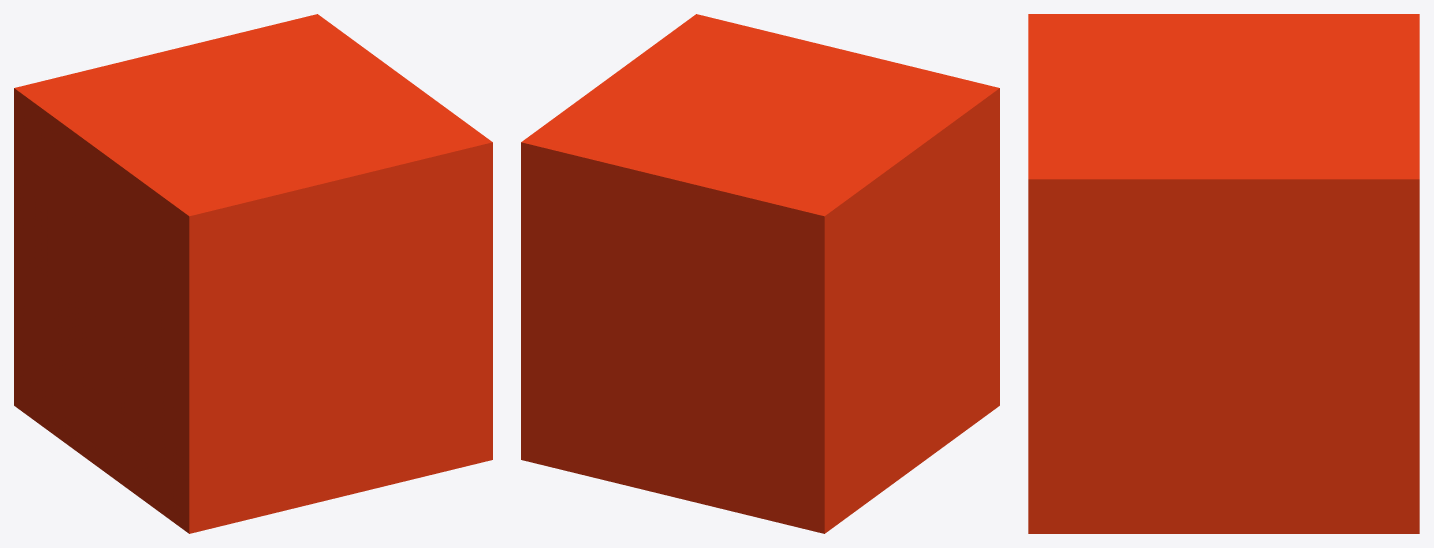
Rendered from start.obj.
3 views of the same model, side by side, from view 1: azimuth 30°, elevation 25°; view 2: azimuth 150°, elevation 25°; view 3: azimuth 270°, elevation 25° (orthographic). The views are drawn at different scales.
Visible parts, largest first — view 1: Start_Cube.159; view 2: Start_Cube.159; view 3: Start_Cube.159.
Part boxes in pixels (bbox=[...]): Start_Cube.159: bbox=[14, 14, 492, 533]; Start_Cube.159: bbox=[521, 14, 999, 533]; Start_Cube.159: bbox=[1028, 14, 1419, 533].
Size of the model in its own units: 3.71 by 3.71 by 3.71.
Materials: 1 (1 with a texture image).
